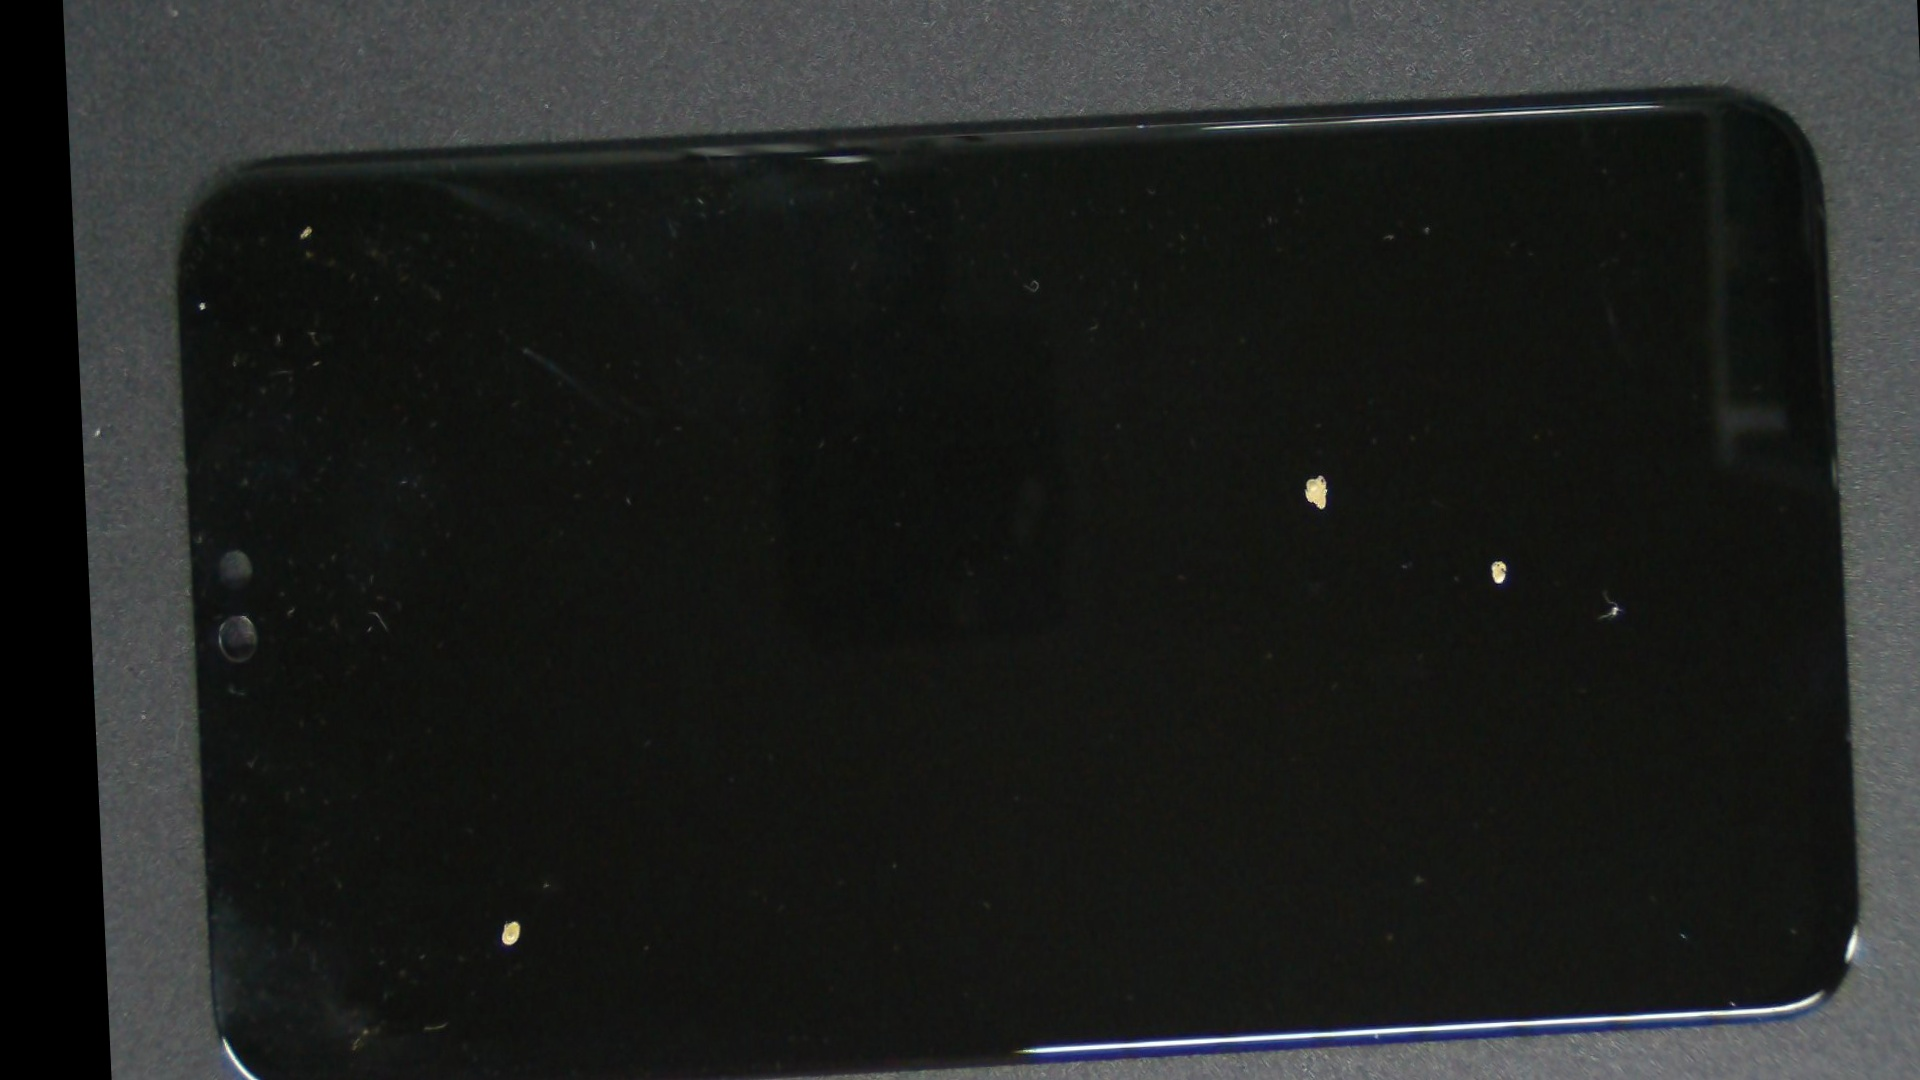oil: (832, 228, 1920, 977), (778, 210, 1920, 923), (691, 162, 1920, 785), (286, 423, 724, 1080), (186, 82, 430, 367), (129, 127, 266, 477)
